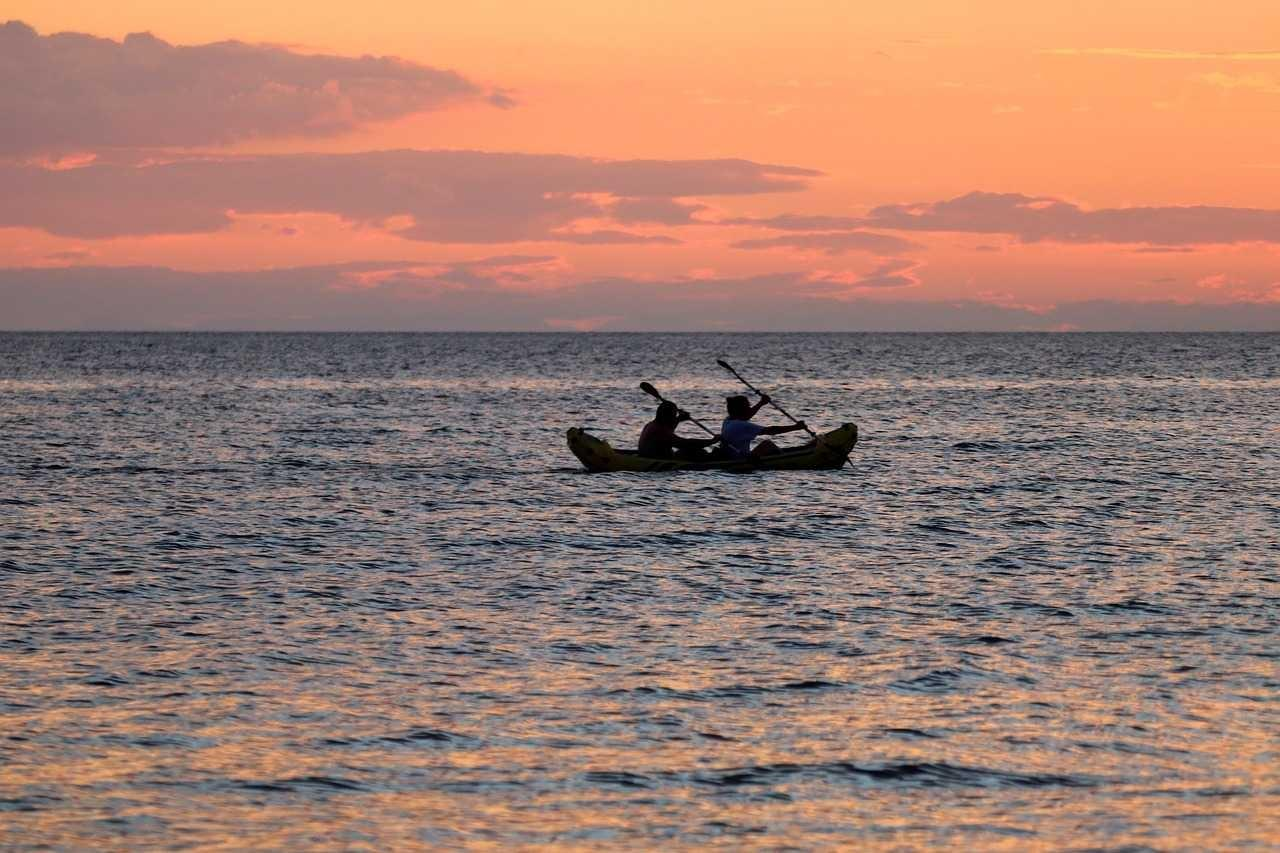kayak: (566, 421, 859, 479), (637, 402, 721, 459)
